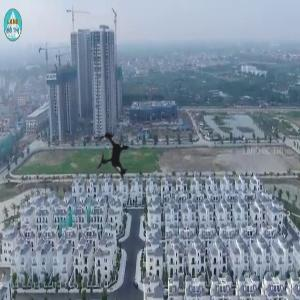drone: (74, 118, 153, 197)
